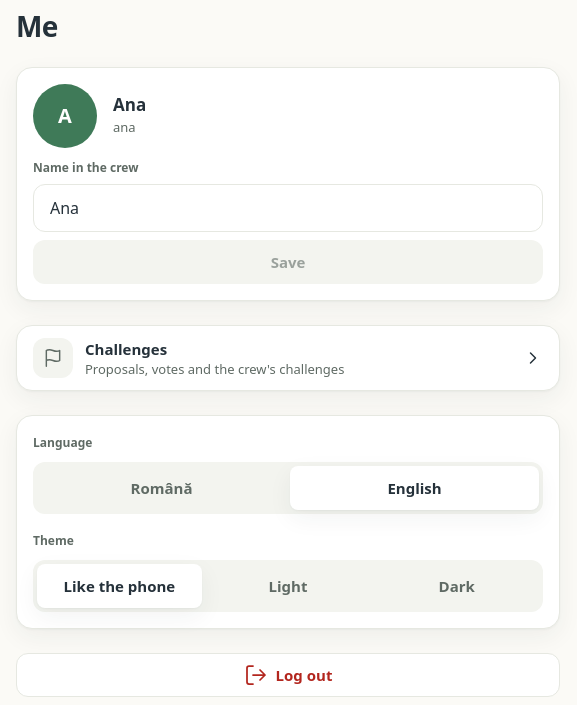
Test: me screen › switches the language and saves it to the account
Click the radio button labelled "Română" at (161, 488), box top-left (130, 478), bottom-right (192, 498)
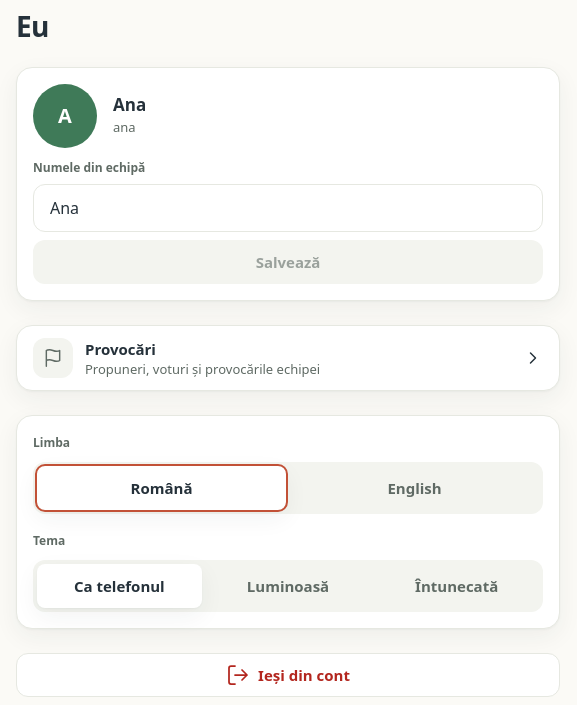
expect the text "Limba" is shown: met, box top-left (33, 432), bottom-right (70, 454)
